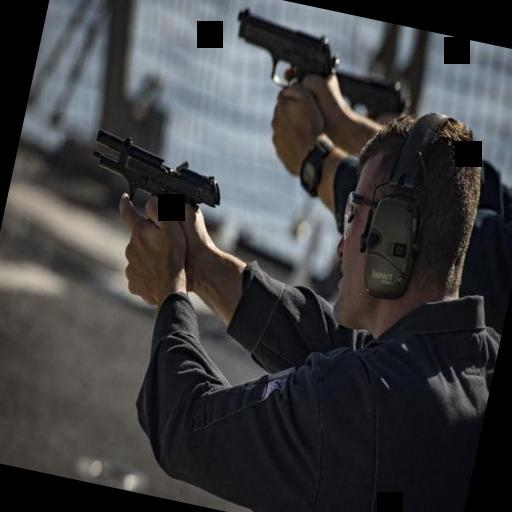Handgun: (76, 118, 231, 232), (221, 0, 348, 99)
